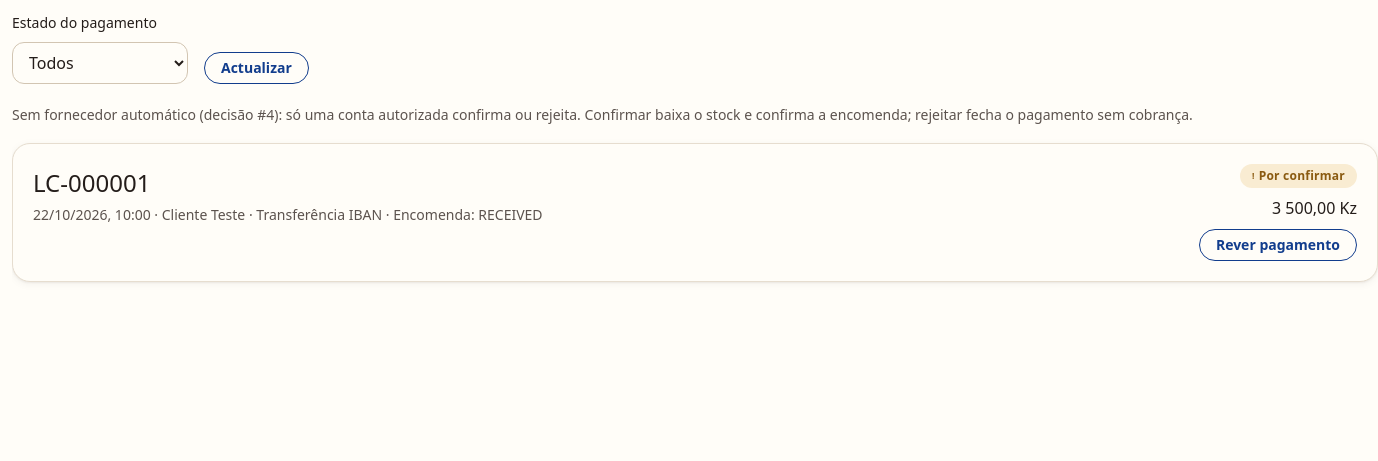
Test: painel: fila de pagamentos › confirmar envia target PAID com chave de idempotência e actualiza a lista
Expected: the link "LC-000001" is shown, x1=33 y1=166 x2=150 y2=199
Click the button "Rever pagamento" at [1278, 245], box x1=1199 y1=229 x2=1357 y2=261
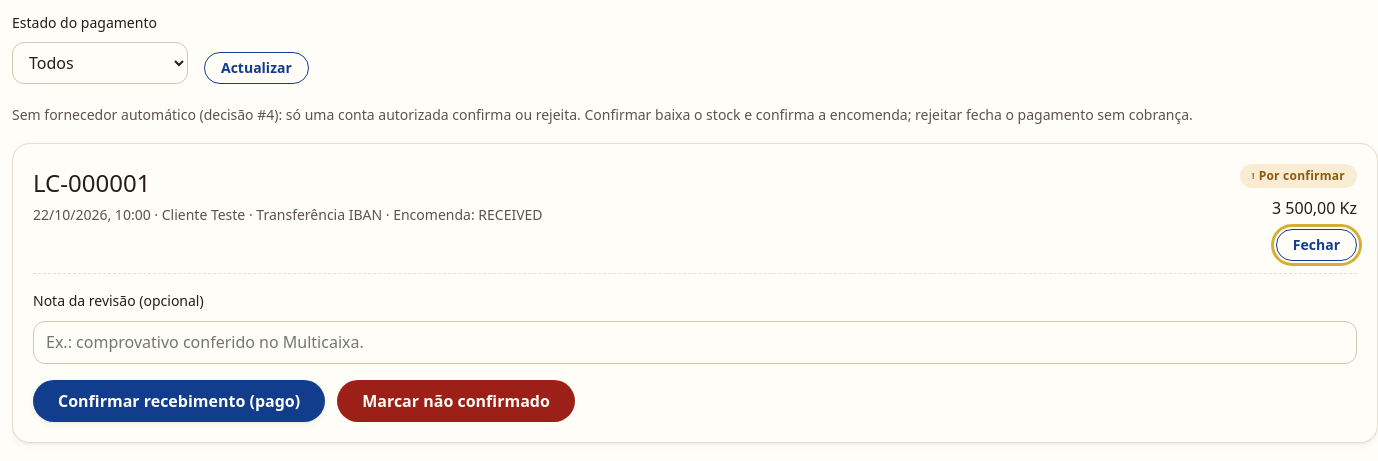
Type "Comprovativo conferido." into the field labelled "Nota da revisão (opcional)" at [695, 342], box x1=33 y1=321 x2=1357 y2=364
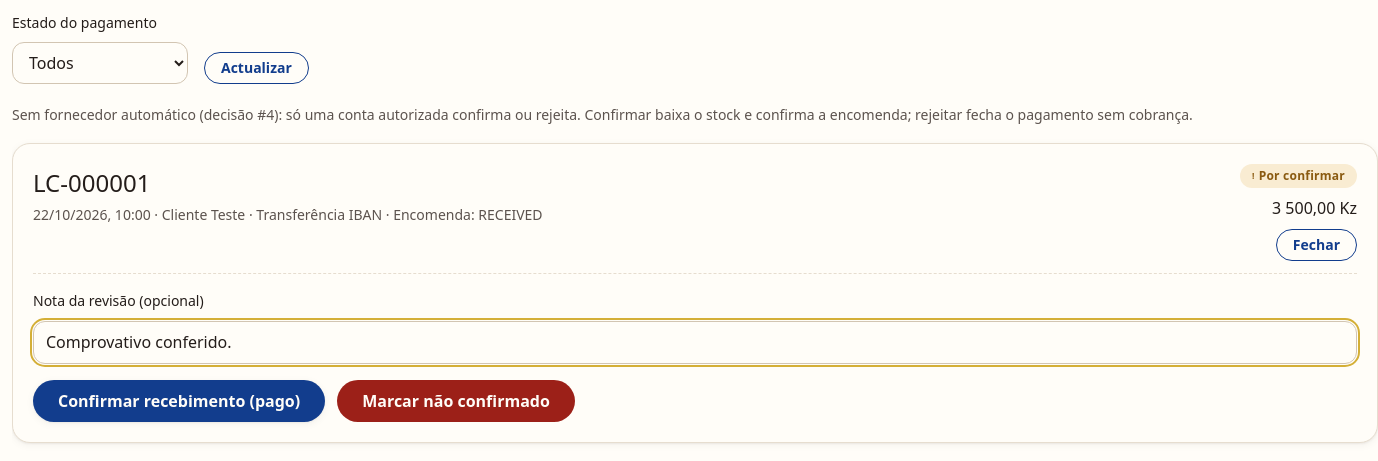
Click the button "Confirmar recebimento (pago)" at [179, 401], box x1=33 y1=380 x2=325 y2=422
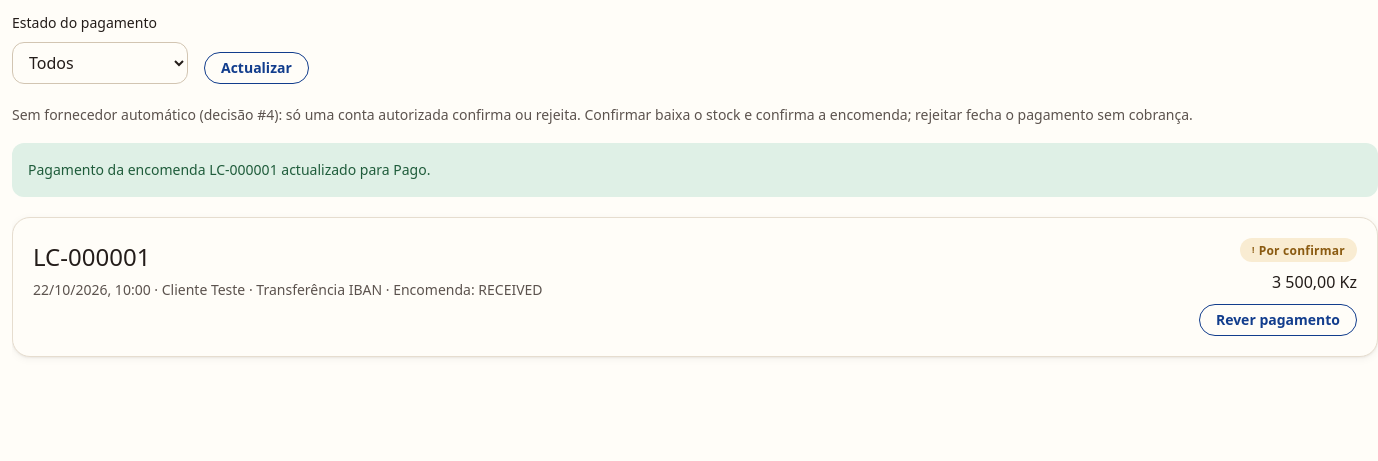
Result: the message shows "actualizado para Pago" at x1=28 y1=160 x2=430 y2=179
